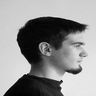ear: (33, 37, 57, 62)
